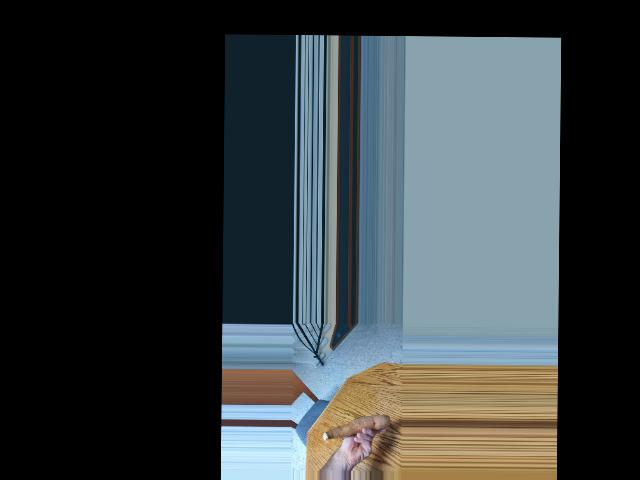sweet_potato: (321, 411, 388, 441)
